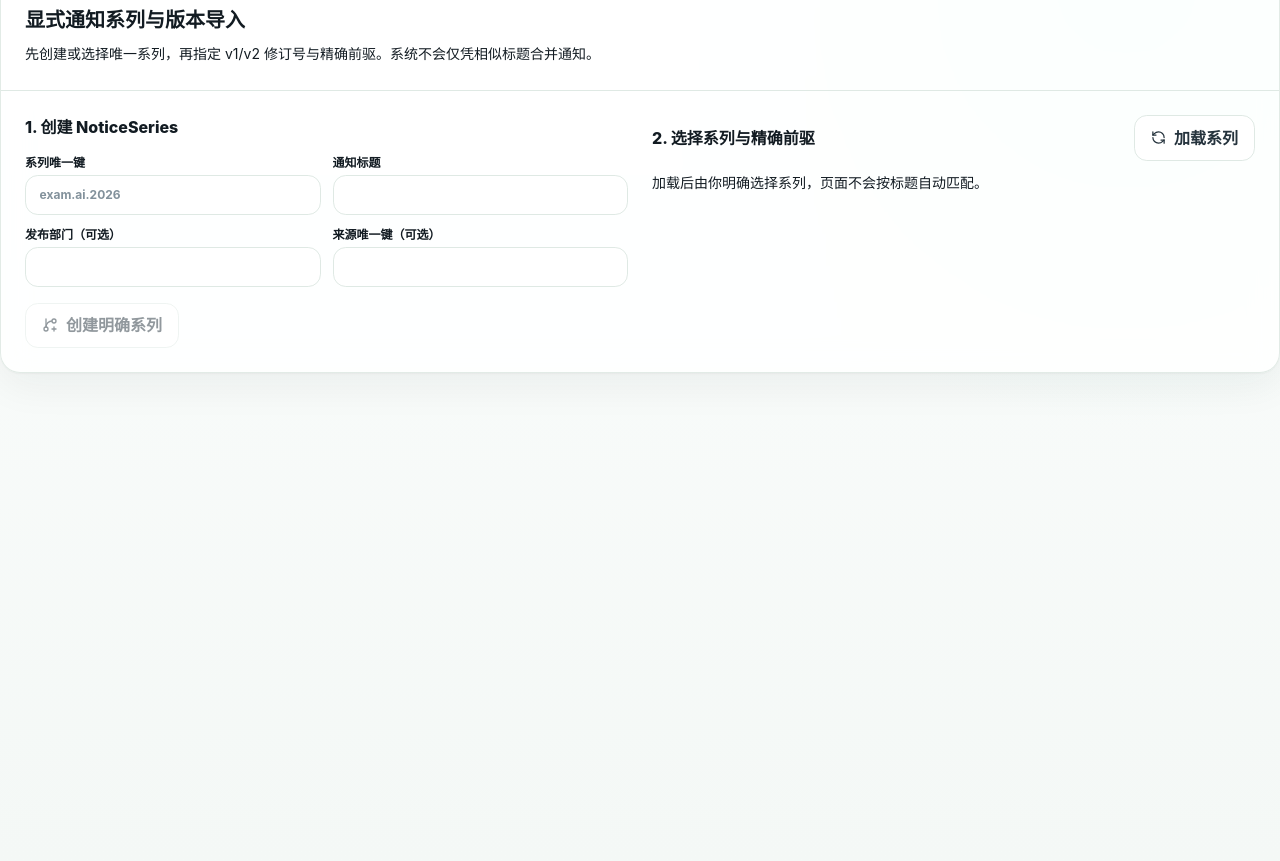
Test: NoticeVersionImport › requires an exact current predecessor and ambiguity acknowledgement for v2
Click the button "加载系列" at [1194, 138], box x1=1134 y1=115 x2=1255 y2=161
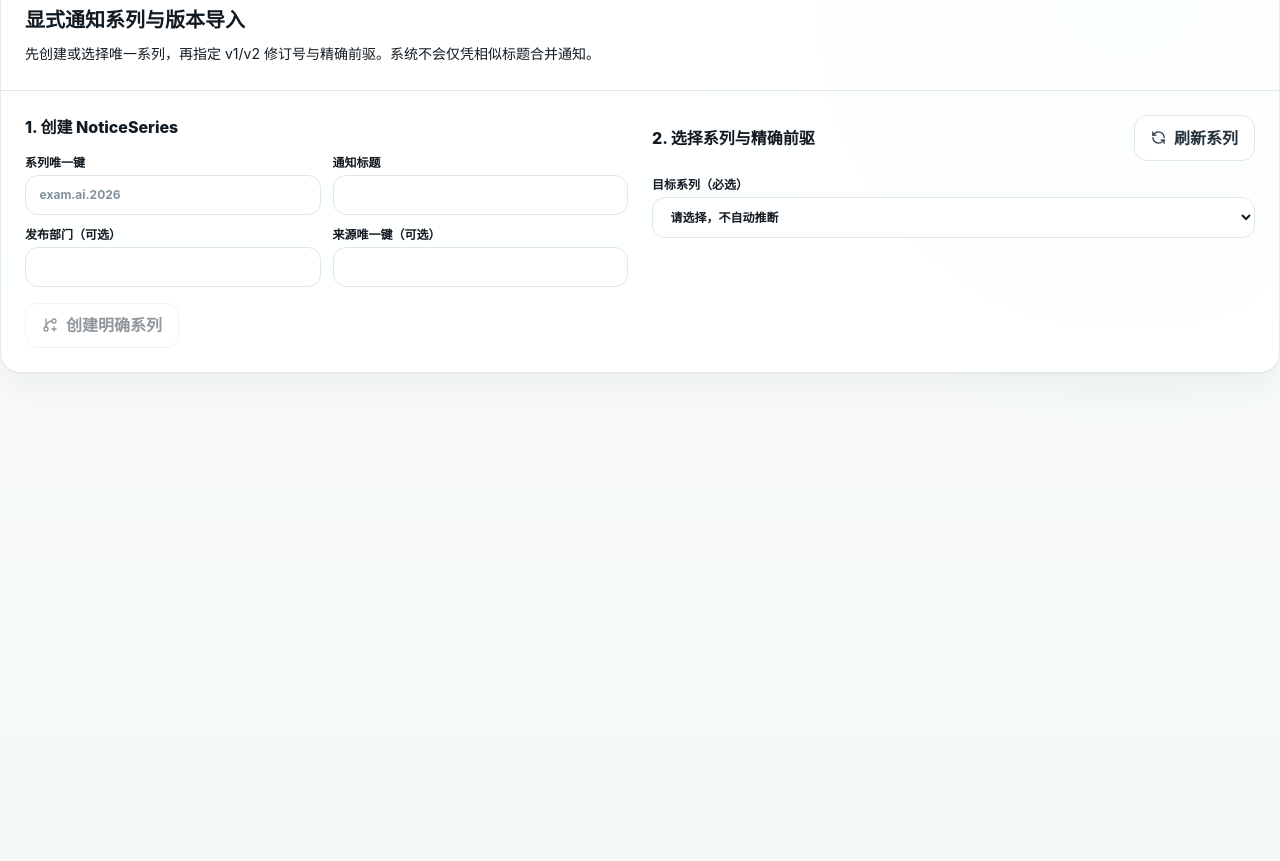
Select "人工智能专业考试安排 · exam.ai.2026 · 教务处" in the dropdown labelled "目标系列（必选）" at [954, 217], box x1=652 y1=197 x2=1255 y2=238
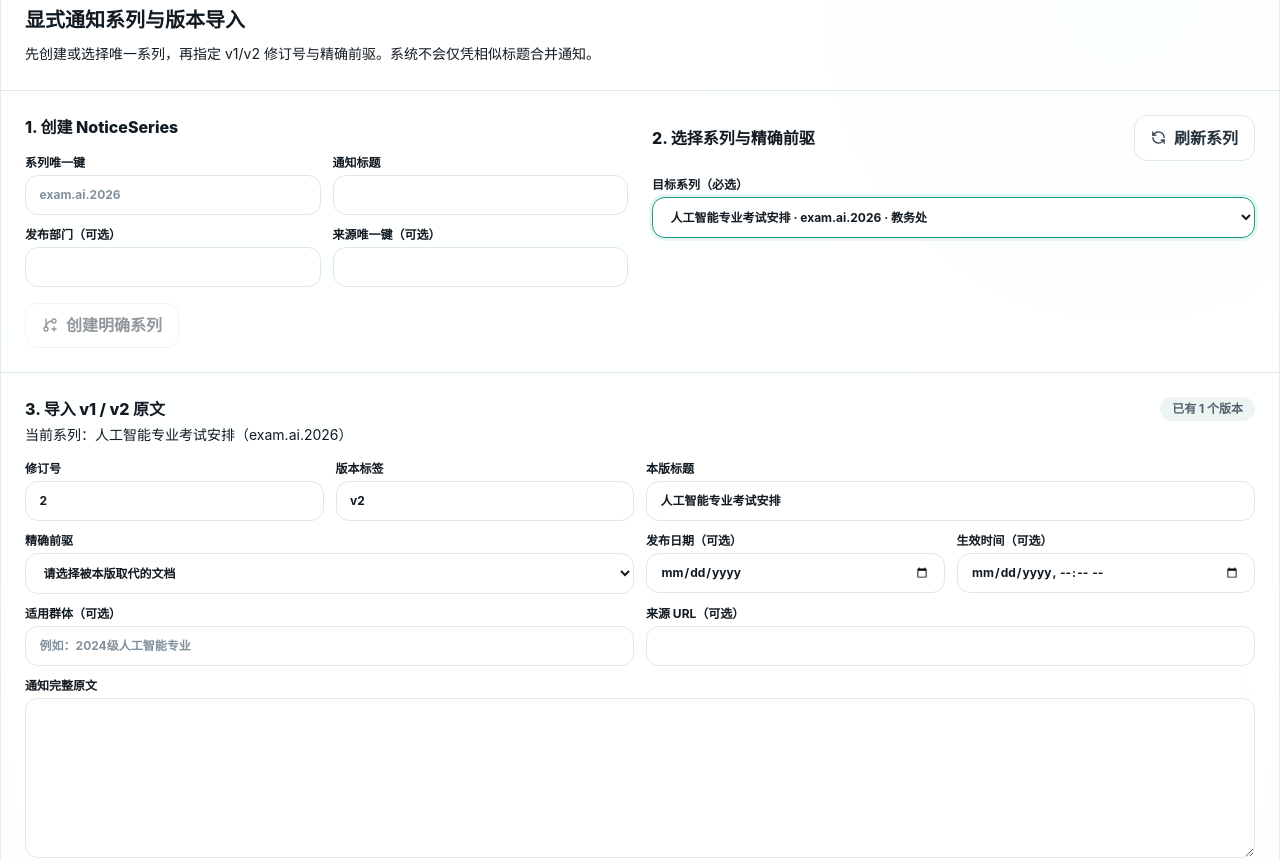
Expected: the field showing "v2" is shown, x1=336 y1=481 x2=634 y2=521
Type "考试时间改为 2026-07-18 14:00 至 16:00，地点 B205。" into the text box labelled "通知完整原文" at [640, 778], box x1=25 y1=698 x2=1255 y2=858
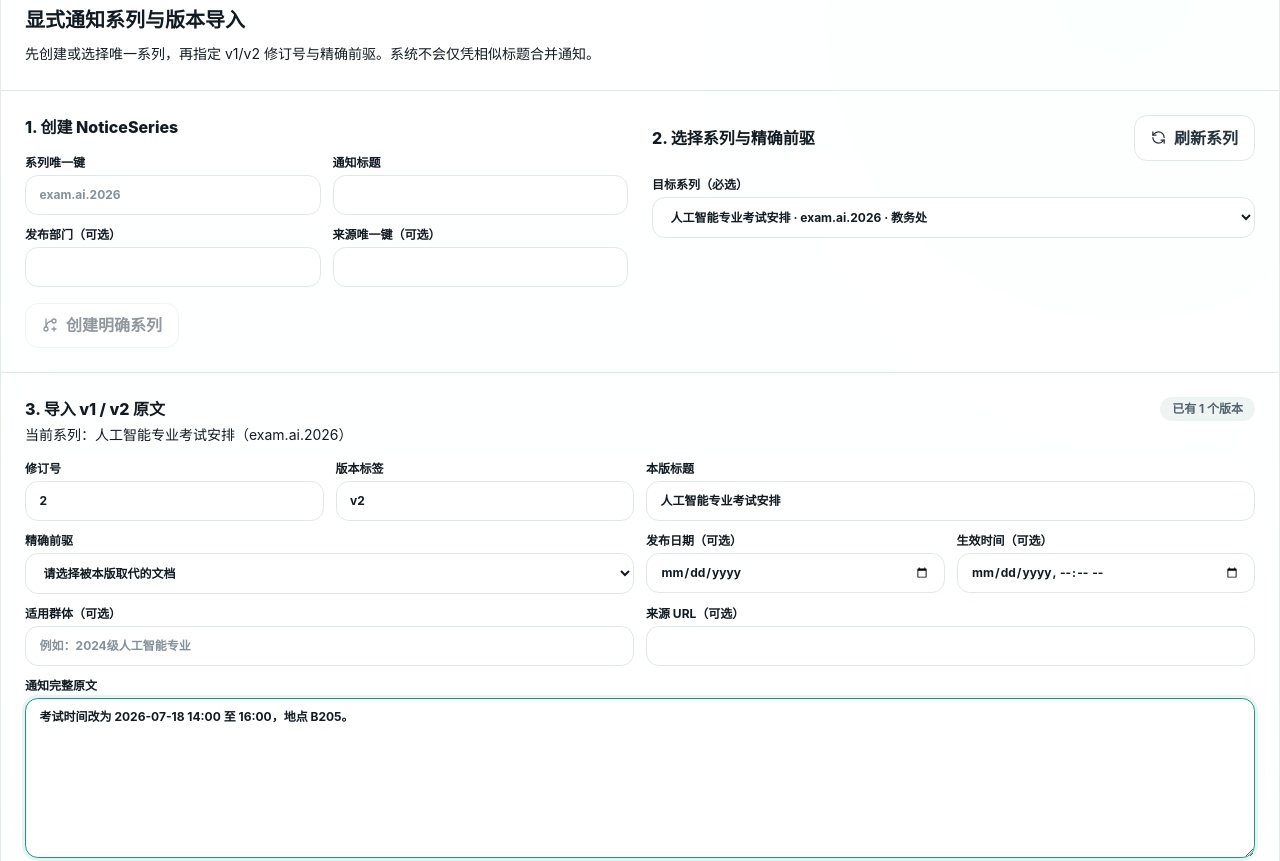
Select "v1 · revision 1 · doc-v1（当前版）" in the dropdown labelled "精确前驱" at [330, 574], box x1=25 y1=553 x2=634 y2=594
(page scrolled)
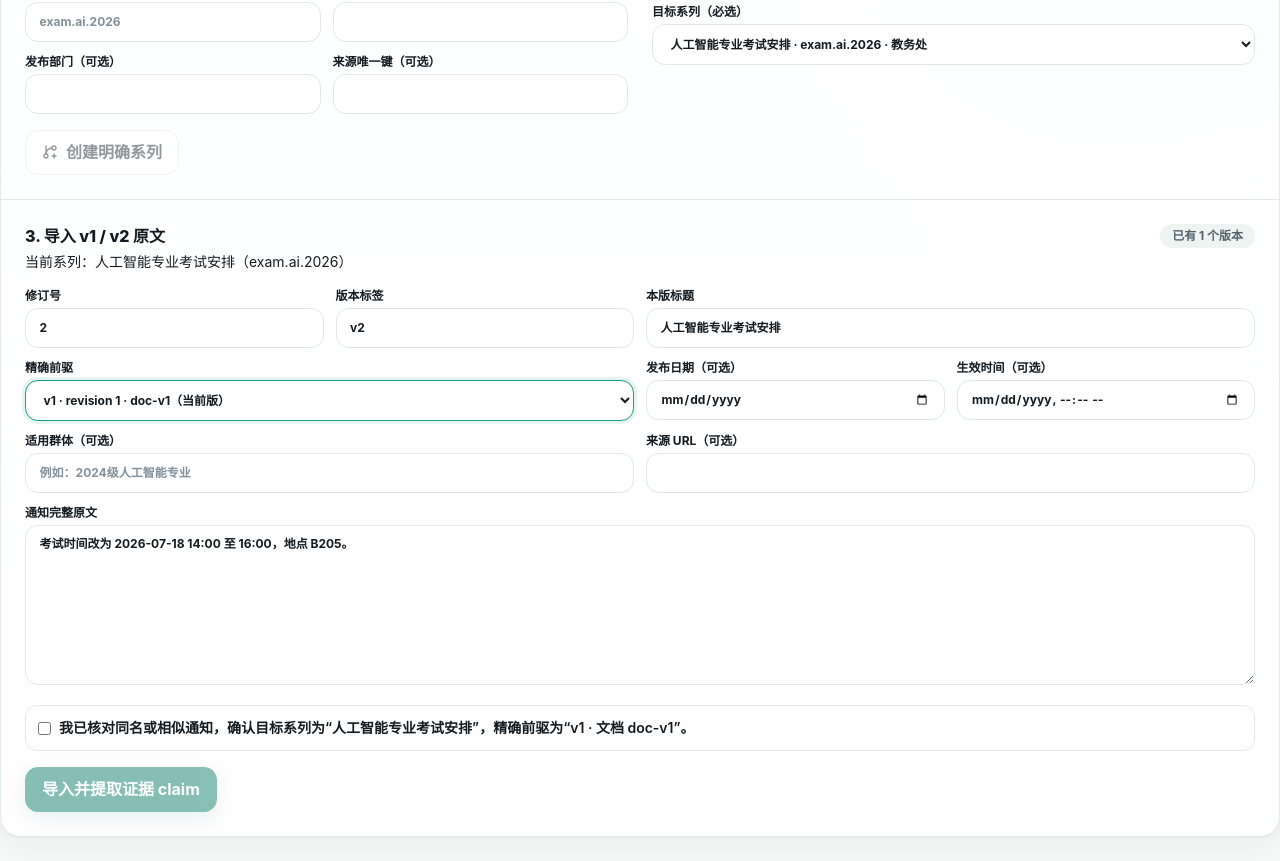
Expected: the button "导入并提取证据 claim" is disabled, x1=25 y1=767 x2=217 y2=812
Click the checkbox labelled "我已核对同名或相似通知，确认目标系列为“人工智能专业考试安排”，精确前驱为“v1 · 文档 doc-v1”。" at [44, 728], box x1=38 y1=722 x2=51 y2=735
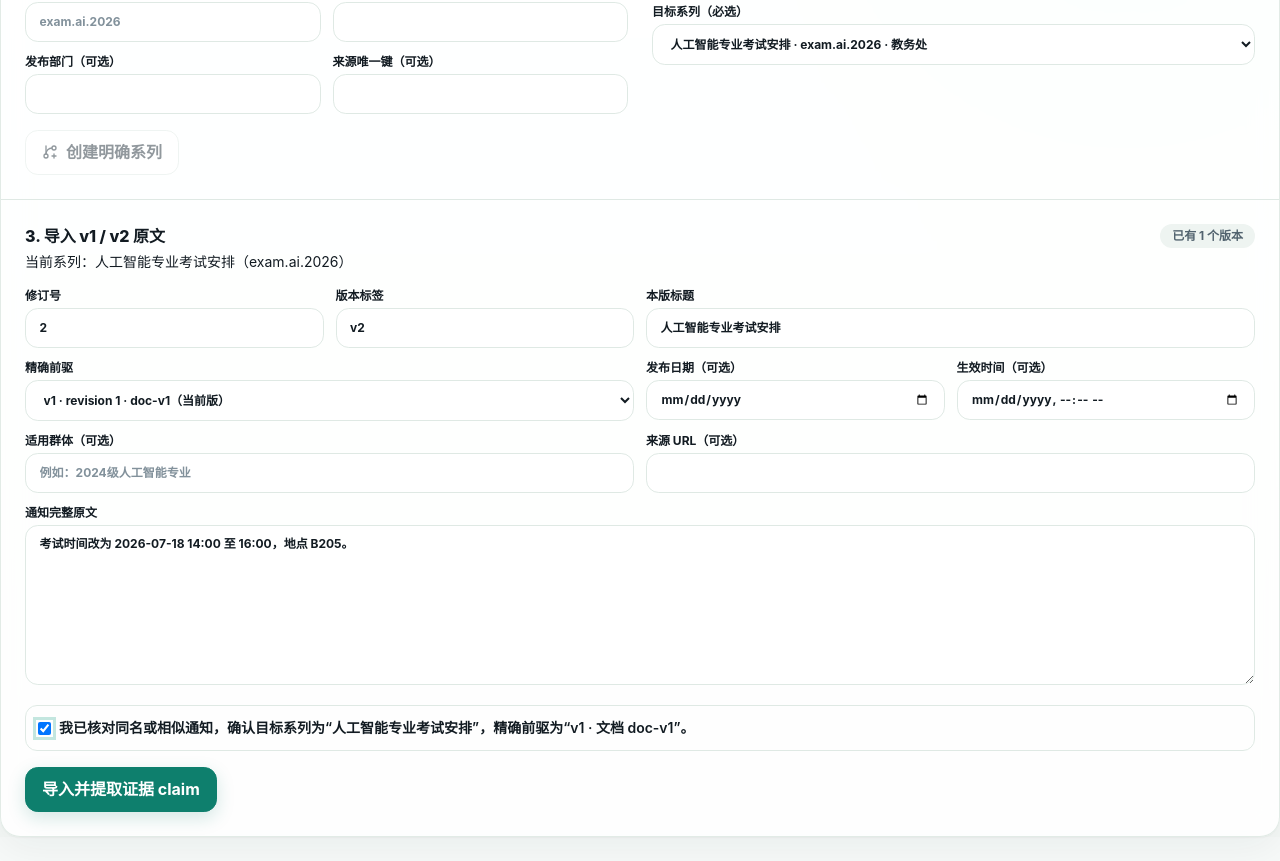
Expected: the button "导入并提取证据 claim" is enabled
Click the button "导入并提取证据 claim" at [121, 790], box x1=25 y1=767 x2=217 y2=812
(page scrolled)
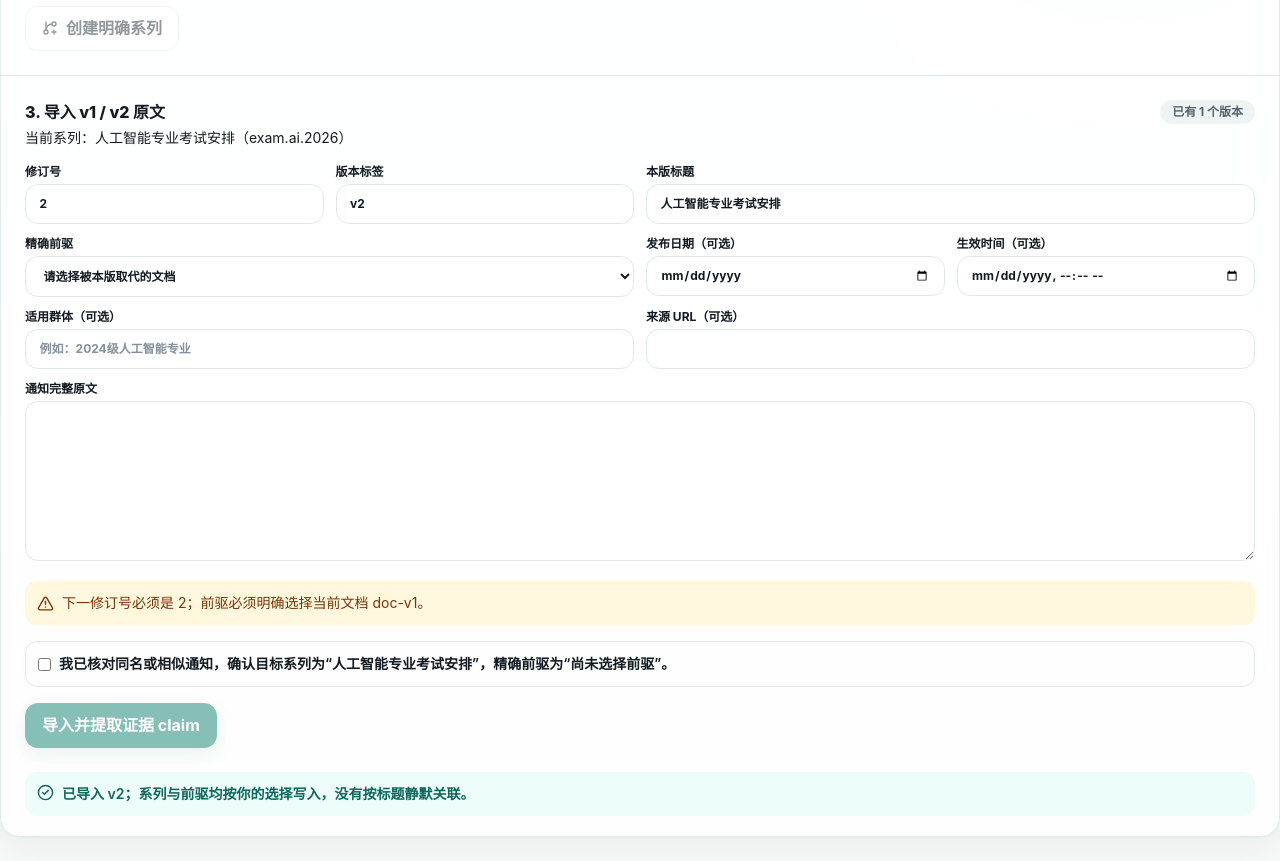
Expected: the text "已导入 v2；系列与前驱均按你的选择写入，没有按标题静默关联。" is shown, x1=25 y1=772 x2=1255 y2=816
